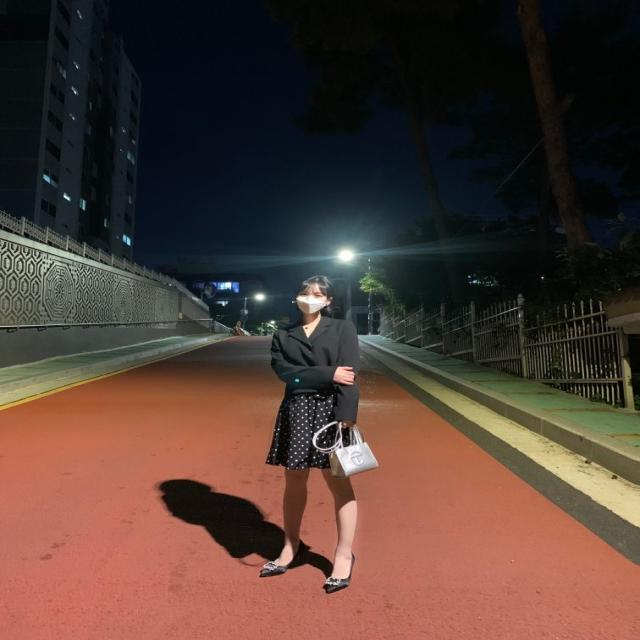blazer: (273, 314, 360, 429)
skirt: (266, 387, 352, 469)
